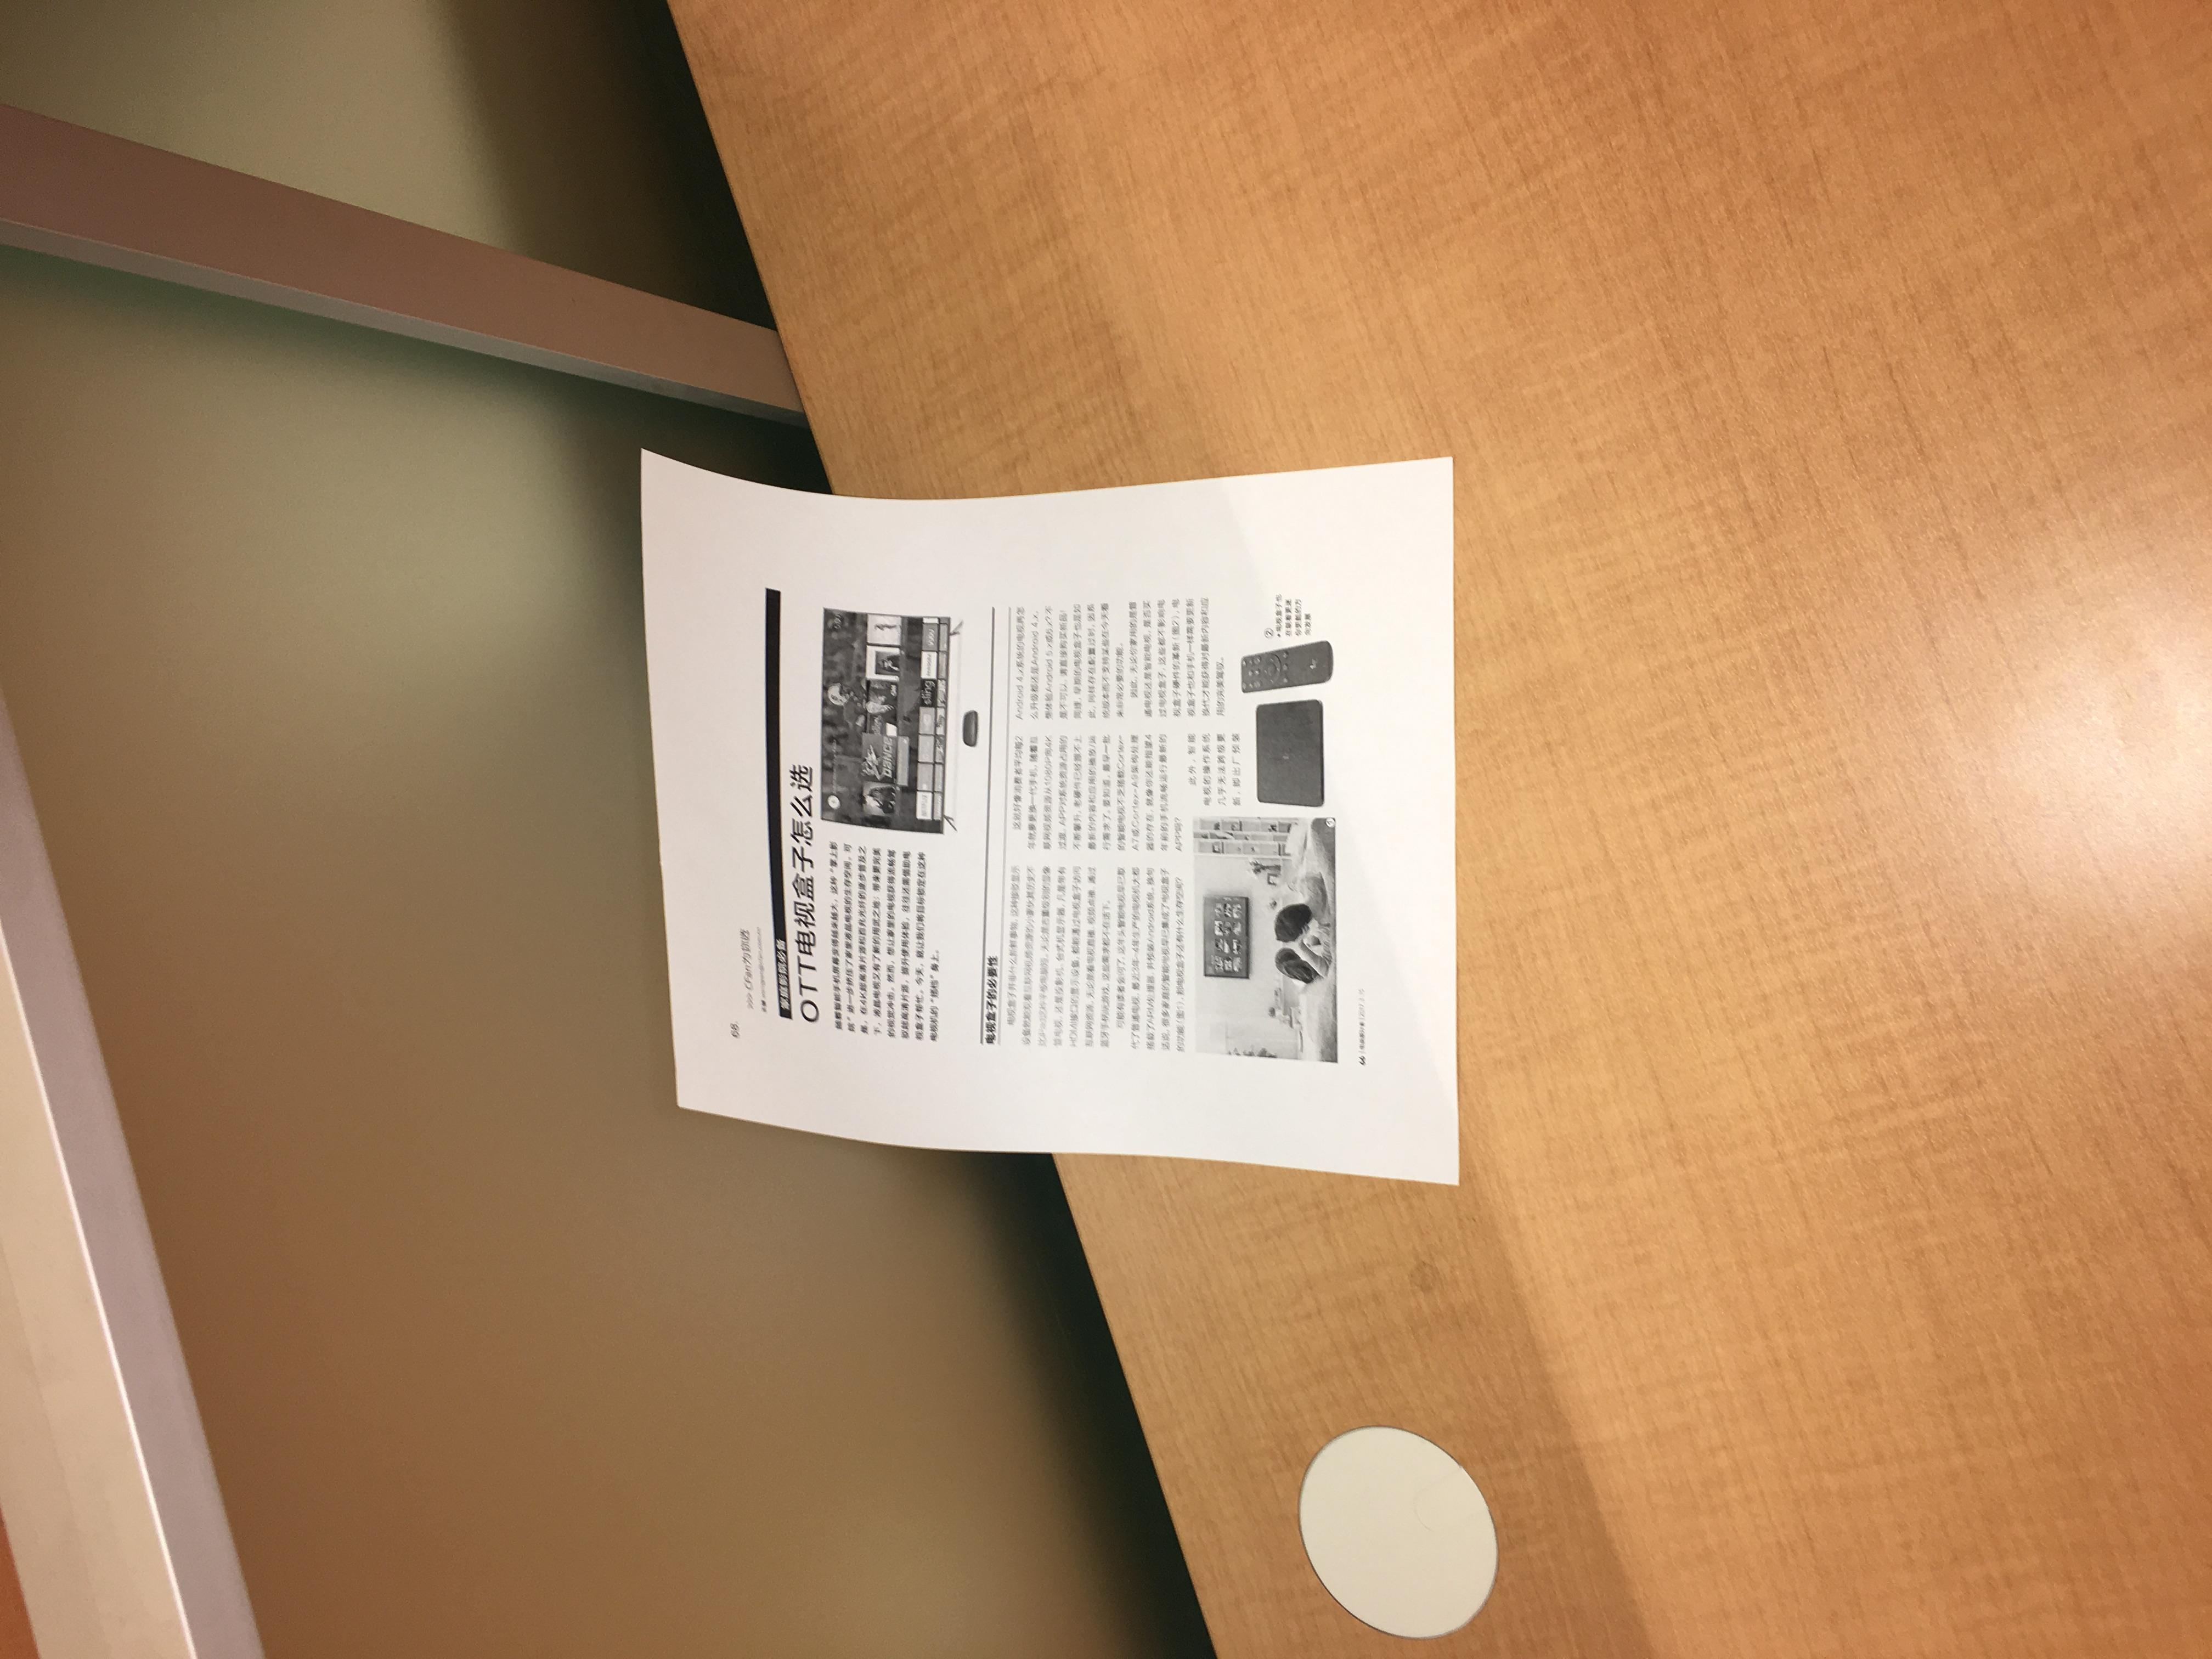paper: (266, 373, 1881, 1474)
